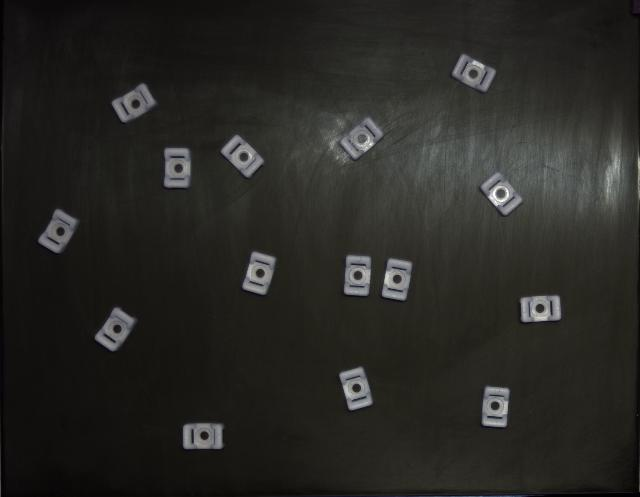first_side: (95, 308, 138, 352), (221, 135, 264, 179), (111, 84, 158, 124), (340, 118, 384, 160), (480, 172, 522, 215), (39, 210, 80, 254), (451, 54, 496, 92), (242, 253, 276, 295), (340, 368, 372, 411), (381, 259, 412, 301), (481, 386, 510, 429), (344, 255, 371, 296), (182, 424, 224, 450), (164, 149, 191, 189), (520, 296, 561, 322)
